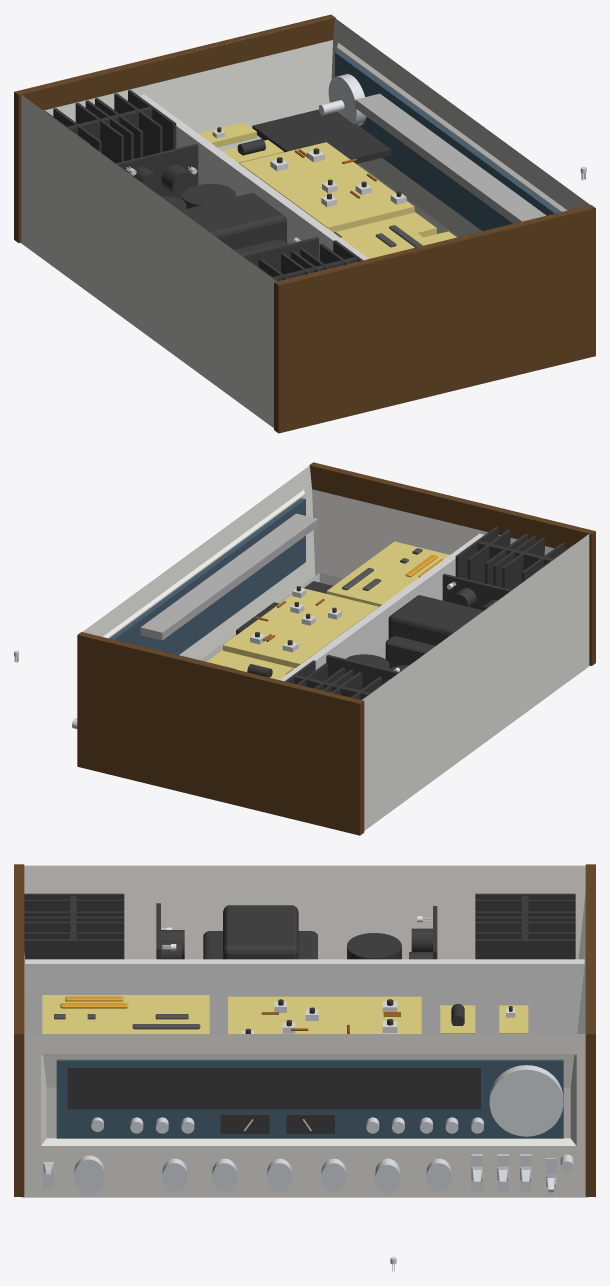
Rendered from Kenwood9400v1.glb.
3 renders of one model, top to bottom at view 1: azimuth 30°, elevation 25°; view 2: azimuth 150°, elevation 25°; view 3: azimuth 270°, elevation 25°, orthographic. The views are drawn at different scales.
Visible parts, largest first — view 1: Cube, Cube.003, Cube.004, if-unit, radio-faceplate, radio-faceplate.001, Cube.006, Cube.005, power-transformer, lever-sw-unit, main-amp-unit-2, Cube.009 (+7 smaller); view 2: Cube, Cube.004, Cube.003, radio-faceplate, if-unit, radio-faceplate.001, Cube.009, Cube.005, power-transformer, rf-unit, Cube.006, main-amp-unit (+2 smaller); view 3: Cube, Cube.005, radio-panel, radio-faceplate, if-unit, Cube.006, Cube.009, rf-unit, power-transformer, tuning-dial, Cube.003, Cube.004 (+14 smaller).
Boxes of the visible parts, left/top/right/bottom form: Cube: left=20, top=18, right=589, bottom=427; Cube.003: left=274, top=205, right=595, bottom=433; Cube.004: left=14, top=14, right=335, bottom=242; if-unit: left=239, top=142, right=414, bottom=232; radio-faceplate: left=335, top=51, right=559, bottom=231; radio-faceplate.001: left=355, top=93, right=546, bottom=223; Cube.006: left=44, top=90, right=176, bottom=163; Cube.005: left=139, top=94, right=368, bottom=260; power-transformer: left=180, top=193, right=288, bottom=255; lever-sw-unit: left=252, top=109, right=391, bottom=163; main-amp-unit-2: left=116, top=144, right=198, bottom=199; Cube.009: left=249, top=240, right=362, bottom=281; Cube: left=83, top=465, right=589, bottom=830; Cube.004: left=77, top=632, right=364, bottom=835; Cube.003: left=309, top=462, right=595, bottom=665; radio-faceplate: left=109, top=498, right=305, bottom=654; if-unit: left=223, top=586, right=378, bottom=668; radio-faceplate.001: left=140, top=513, right=317, bottom=640; Cube.009: left=455, top=526, right=572, bottom=589; Cube.005: left=280, top=533, right=484, bottom=681; power-transformer: left=385, top=595, right=483, bottom=668; rf-unit: left=326, top=541, right=449, bottom=606; Cube.006: left=285, top=660, right=390, bottom=700; main-amp-unit: left=442, top=573, right=511, bottom=610; Cube: left=21, top=865, right=588, bottom=1197; Cube.005: left=25, top=959, right=584, bottom=1033; radio-panel: left=67, top=1068, right=480, bottom=1109; radio-faceplate: left=56, top=1059, right=563, bottom=1138; if-unit: left=228, top=996, right=421, bottom=1033; Cube.006: left=475, top=893, right=575, bottom=959; Cube.009: left=24, top=893, right=124, bottom=959; rf-unit: left=42, top=995, right=209, bottom=1033; power-transformer: left=203, top=905, right=317, bottom=959; tuning-dial: left=489, top=1065, right=563, bottom=1136; Cube.003: left=14, top=864, right=24, bottom=1196; Cube.004: left=585, top=864, right=595, bottom=1196.
Bounding box in the file's own units: 50 × 14.82 × 47.75.
